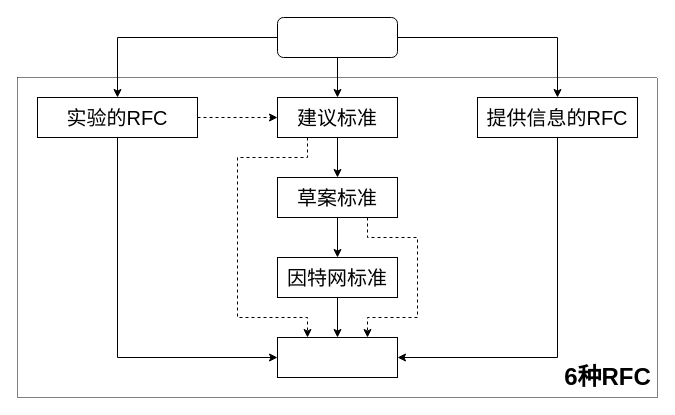
This 675x415 diagram has some shape labels left out. Here are the shapes that lost their labels. From the top down, the centre of each, then its label:
At [337,37]: "因特网草案".
At [337,357]: "历史的RFC".
